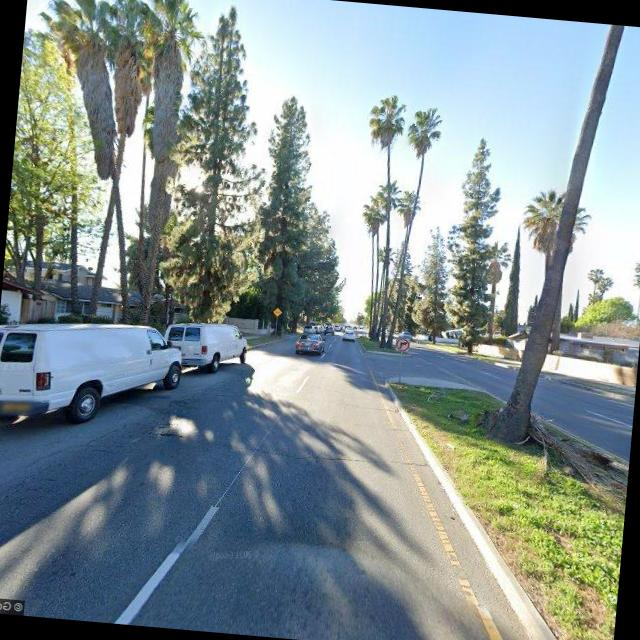crack: (254, 439, 423, 474)
